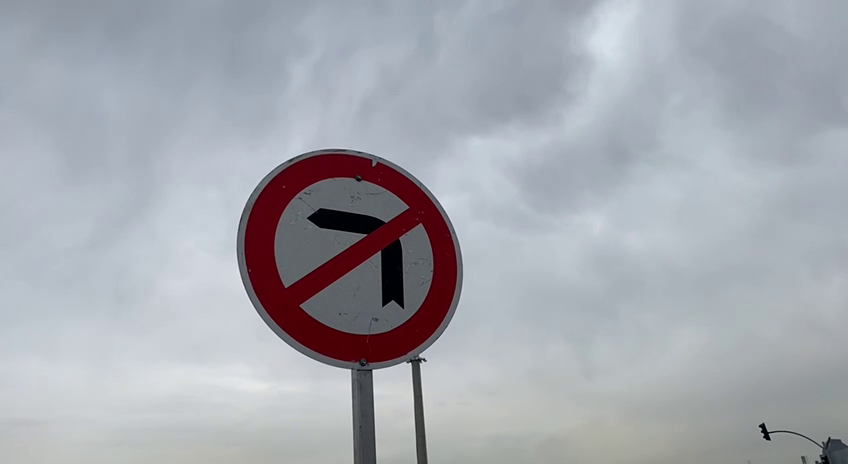noTurnLeft: (230, 143, 468, 379)
